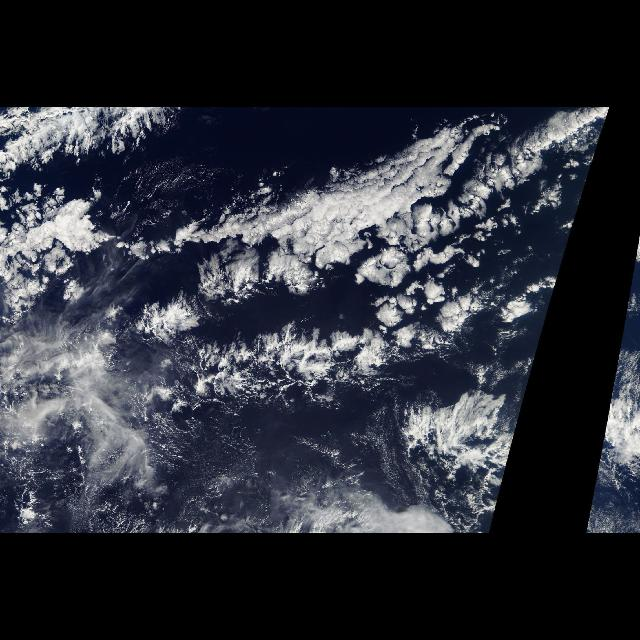Fish: (110, 108, 606, 478)
Flower: (329, 197, 521, 301)
